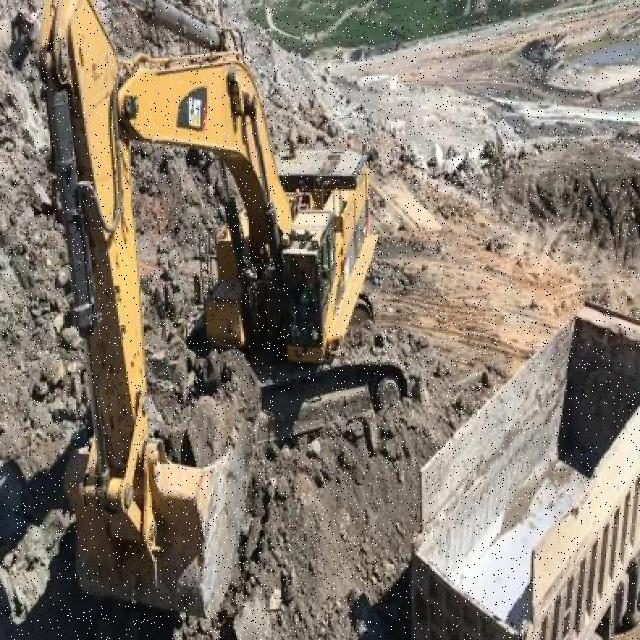Dump Truck: (410, 296, 640, 640)
Excavator: (32, 0, 408, 625)
